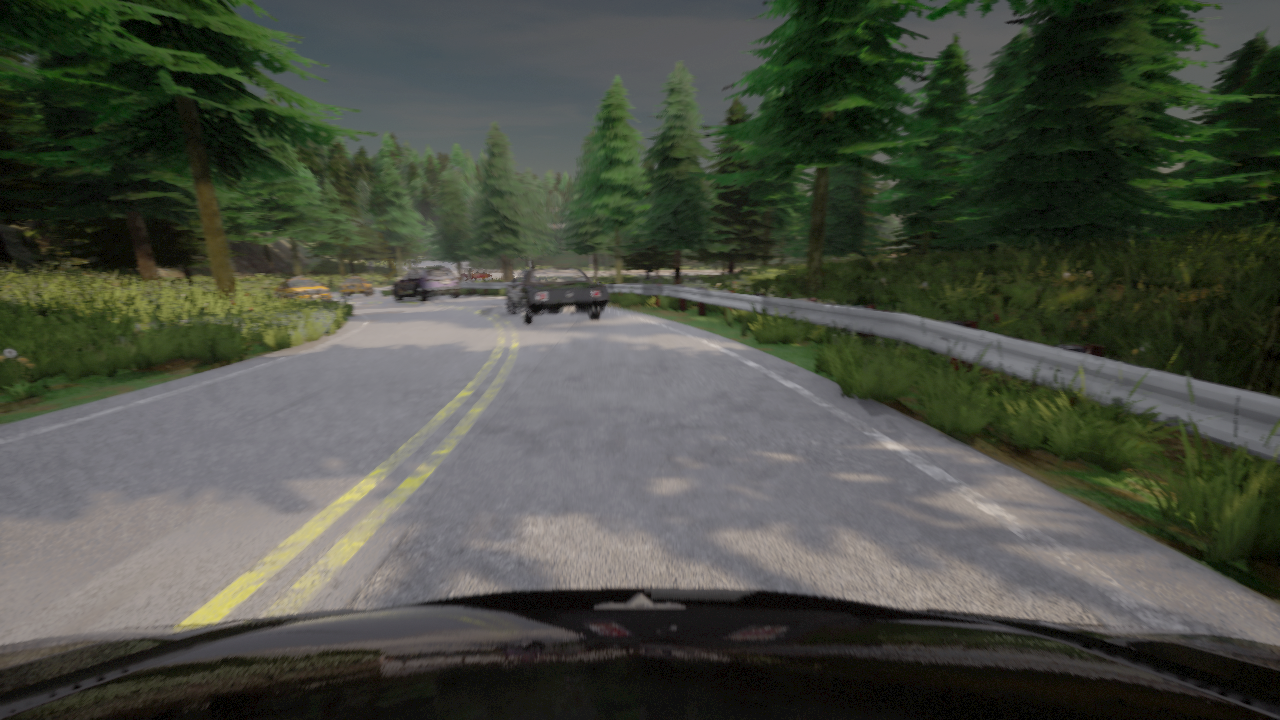cyclist: (0, 588, 1279, 719), (507, 267, 608, 324), (392, 267, 461, 302), (274, 279, 330, 299), (339, 276, 373, 297)
